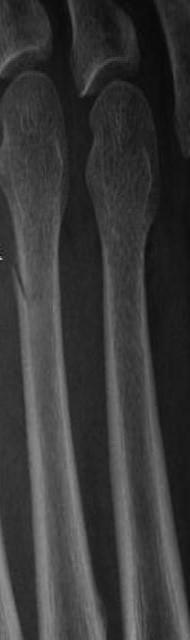fractured: (7, 256, 44, 310)
